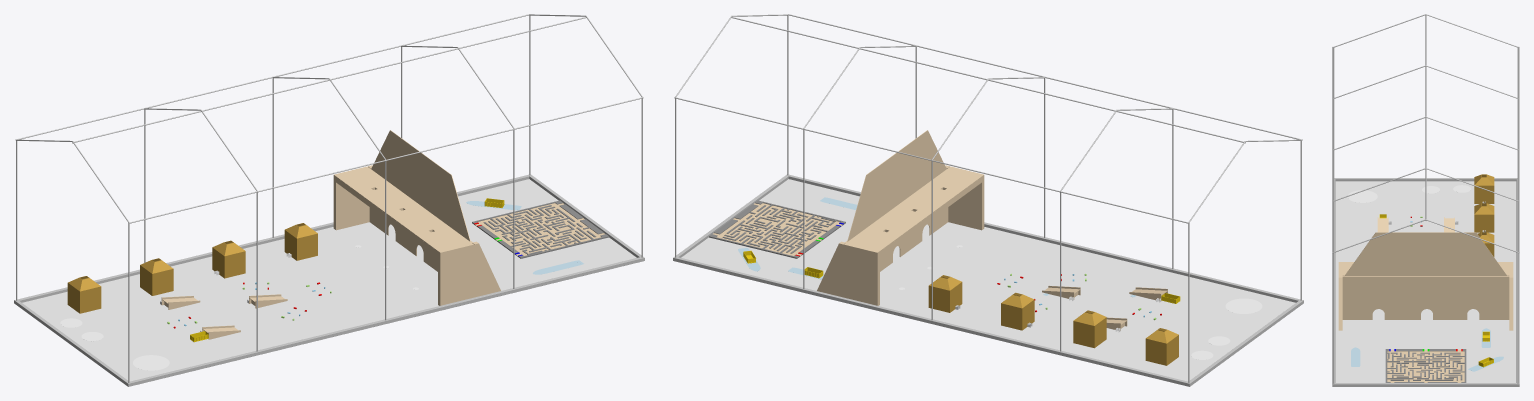
The model's file is Full Game Field Assembly.gltf.
3 views of the same model, side by side, from view 1: azimuth 30°, elevation 25°; view 2: azimuth 150°, elevation 25°; view 3: azimuth 270°, elevation 25° (orthographic). The views are drawn at different scales.
Parts seen in each view (by area): view 1: Floor, Part 1 (×8), Part 4 (×2), Part 2 (×2), Part 8, Part 3 (×2), Part 10, Part 27, Part 26, Part 25; view 2: Floor, Part 1 (×8), Part 2 (×2), Part 4 (×2), Part 8, Part 3 (×2), Part 10, Part 25, Part 26, Part 27; view 3: Floor, Part 1 (×10), Part 3 (×2), Part 2 (×2), Part 4 (×2), Part 11 (×2), Part 25, Part 27, Part 26, Part 21, Part 24.
Part boxes in pixels (x1,y1,x2,y2): Floor: (22, 179, 636, 381); Part 1 (×8): (14, 166, 608, 386); Part 4 (×2): (128, 169, 644, 386); Part 2 (×2): (14, 147, 529, 302); Part 8: (440, 244, 500, 305); Part 3 (×2): (384, 130, 643, 257); Part 10: (336, 183, 369, 229); Part 27: (128, 97, 643, 223); Part 26: (72, 17, 586, 143); Part 25: (15, 14, 529, 140); Floor: (681, 179, 1295, 381); Part 1 (×8): (709, 166, 1303, 386); Part 2 (×2): (673, 136, 1189, 386); Part 4 (×2): (788, 130, 1303, 302); Part 8: (817, 244, 877, 305); Part 3 (×2): (674, 157, 890, 271); Part 10: (948, 183, 981, 229); Part 25: (674, 97, 1189, 223); Part 26: (731, 17, 1245, 143); Part 27: (788, 14, 1302, 140); Floor: (1335, 181, 1516, 382); Part 1 (×10): (1334, 174, 1517, 382); Part 3 (×2): (1332, 232, 1519, 386); Part 2 (×2): (1388, 178, 1519, 384); Part 4 (×2): (1332, 178, 1388, 384); Part 11 (×2): (1338, 277, 1513, 330); Part 25: (1518, 47, 1519, 252); Part 27: (1332, 47, 1333, 252); Part 26: (1425, 15, 1426, 220); Part 21: (1333, 252, 1334, 383); Part 24: (1517, 252, 1518, 383).
Size of the model in its own units: 12.34 by 4.66 by 4.72.
